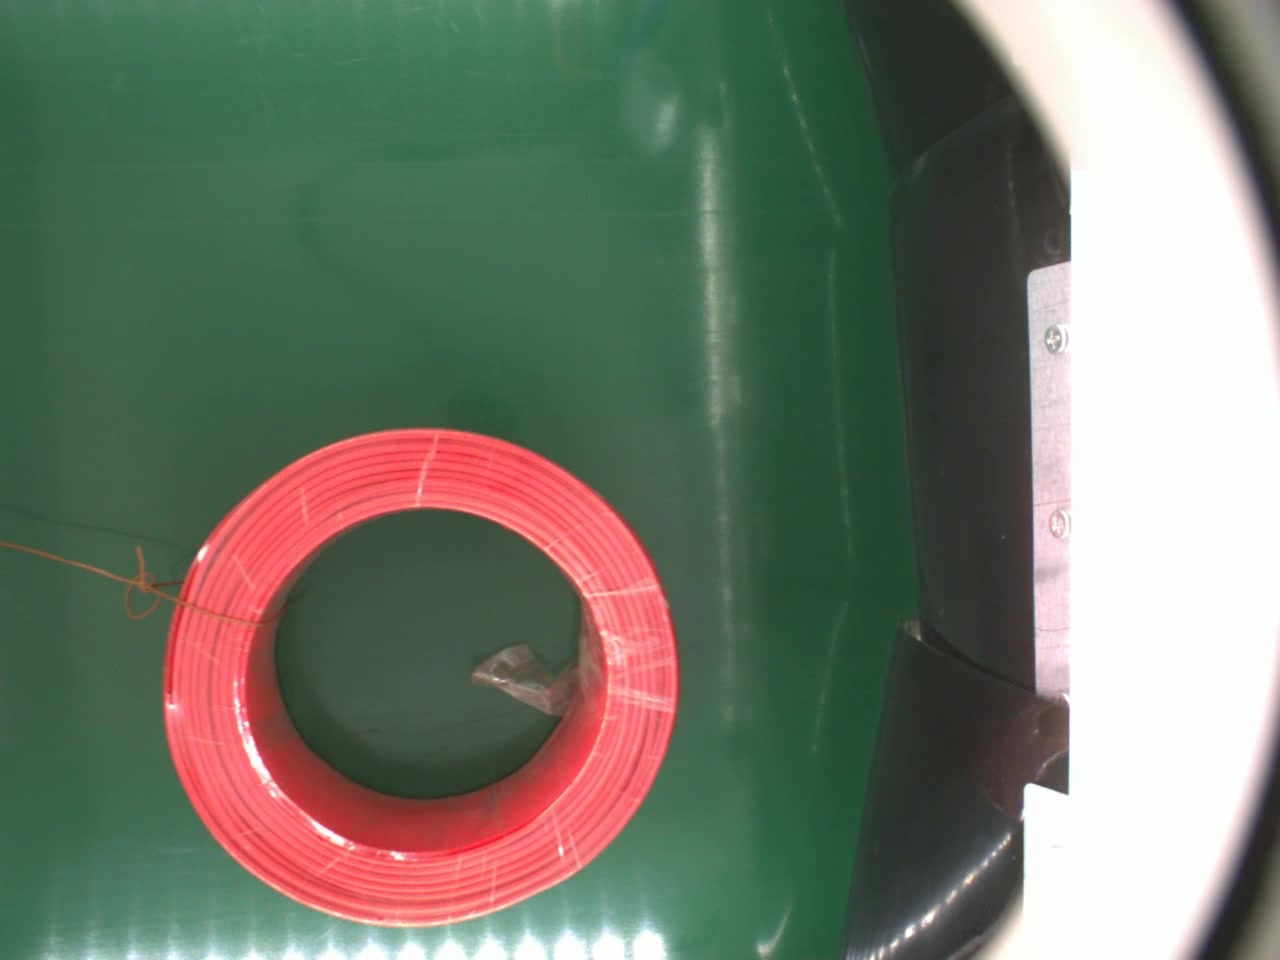red: (157, 419, 681, 933)
